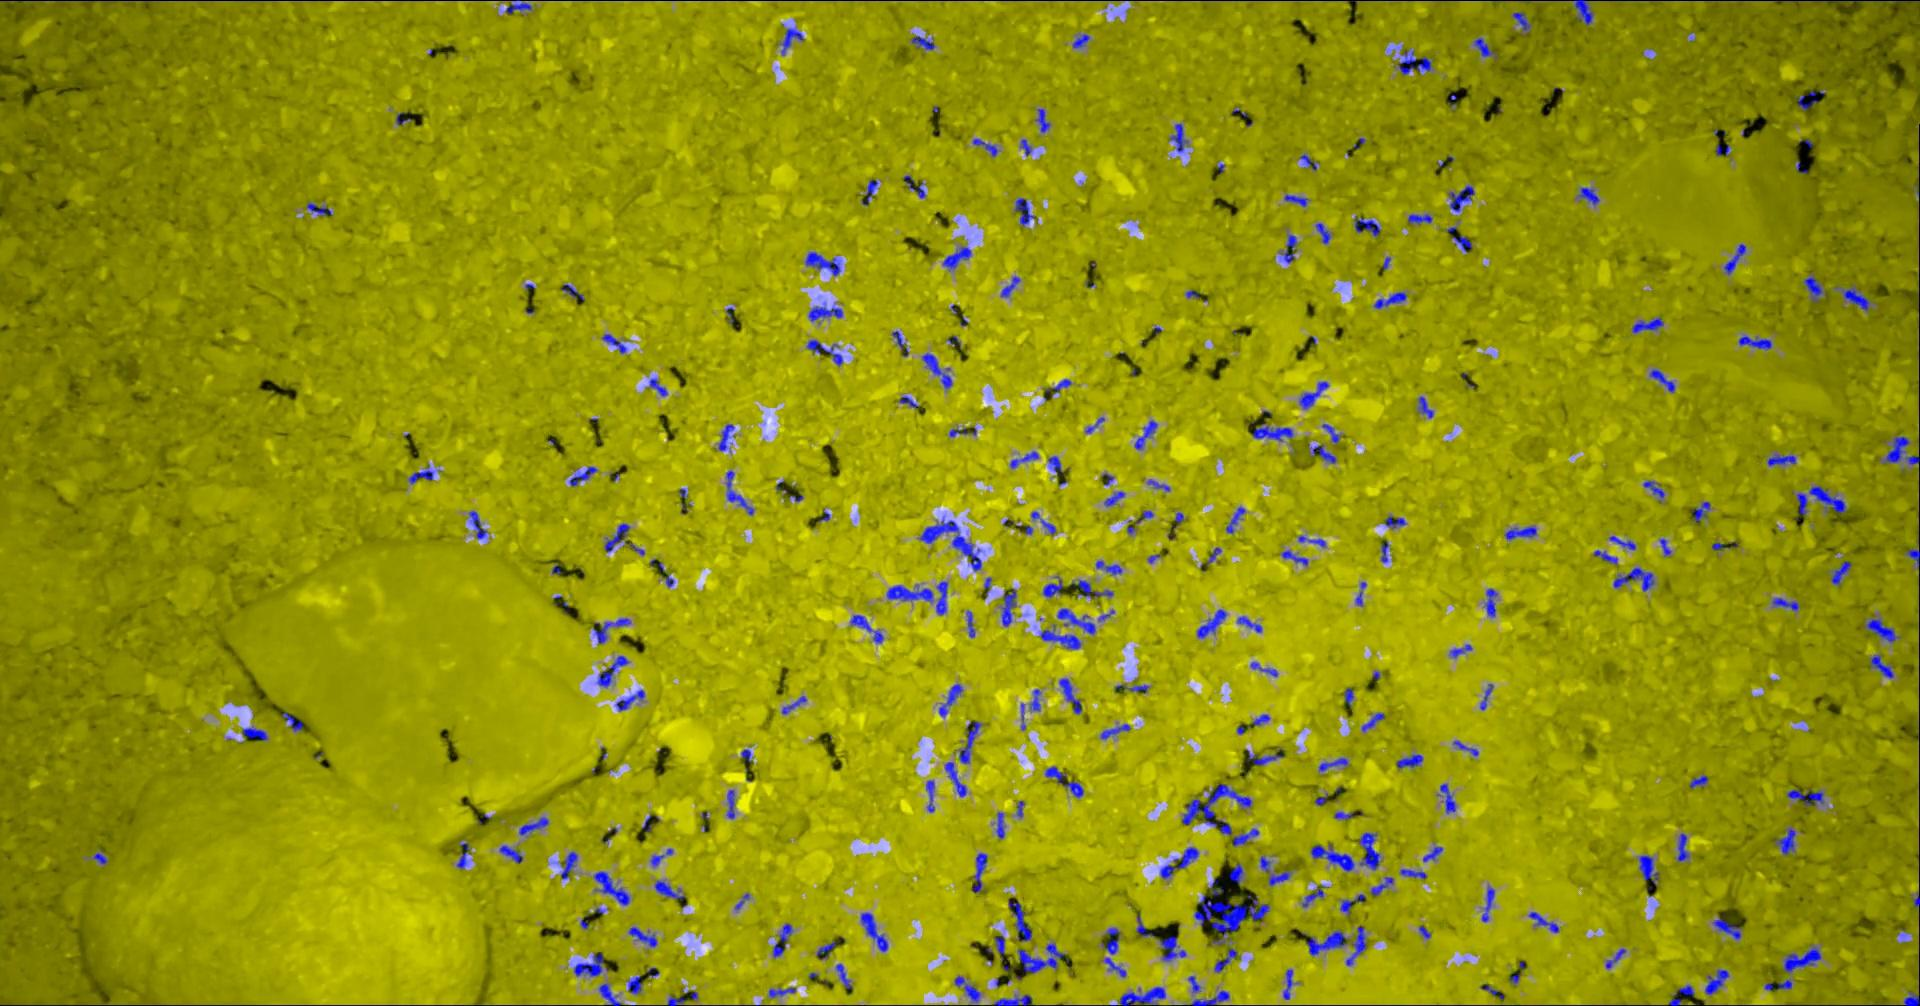ant: (1181, 782, 1251, 835), (919, 518, 982, 570), (1796, 485, 1845, 514), (1017, 942, 1064, 973), (725, 470, 753, 514), (1310, 843, 1354, 871), (1044, 766, 1083, 796), (593, 871, 629, 904), (1161, 846, 1197, 878), (860, 912, 888, 951), (1305, 930, 1349, 955), (1109, 986, 1164, 1005), (922, 352, 951, 387), (1613, 567, 1655, 591), (957, 721, 982, 763), (596, 655, 629, 686), (1884, 434, 1919, 464), (1040, 624, 1079, 649), (1783, 945, 1820, 972), (592, 617, 630, 643), (1008, 901, 1031, 941), (850, 614, 883, 641), (1057, 608, 1095, 633), (806, 339, 842, 365), (1396, 50, 1431, 74), (805, 251, 841, 276), (1196, 608, 1225, 638), (1345, 926, 1366, 965), (573, 951, 607, 976), (1298, 381, 1328, 408), (943, 761, 966, 796), (938, 683, 963, 716), (1357, 832, 1379, 869), (1058, 678, 1081, 713), (1865, 619, 1898, 641), (604, 523, 629, 553), (1252, 423, 1291, 441), (886, 586, 932, 601), (1070, 579, 1112, 596), (1723, 243, 1745, 274), (1448, 185, 1474, 211), (1785, 789, 1823, 807), (954, 976, 980, 1001), (772, 923, 792, 956), (1528, 911, 1558, 932), (1159, 935, 1185, 960), (1843, 286, 1869, 310), (942, 246, 970, 269), (1134, 420, 1157, 448), (615, 688, 644, 710), (1236, 714, 1269, 733), (1638, 855, 1658, 885), (1189, 989, 1229, 1005), (1704, 969, 1728, 995), (1246, 748, 1283, 765), (1796, 89, 1823, 111), (1712, 918, 1741, 939), (1030, 511, 1055, 533), (518, 815, 549, 835), (654, 880, 684, 899), (781, 28, 803, 55), (1803, 276, 1825, 302), (1302, 884, 1328, 906), (1015, 197, 1035, 225), (629, 926, 657, 946), (1650, 370, 1674, 392), (1870, 654, 1893, 678), (971, 852, 985, 892), (1354, 215, 1379, 236), (1830, 560, 1851, 586), (1774, 828, 1796, 854), (1338, 893, 1364, 915), (1373, 291, 1406, 307), (569, 466, 596, 486), (1225, 506, 1244, 533), (1214, 948, 1236, 972), (598, 983, 622, 1005), (1170, 123, 1187, 152), (601, 333, 626, 353), (1906, 526, 1919, 567), (1001, 589, 1015, 626), (1100, 723, 1130, 739), (1439, 782, 1455, 813), (469, 511, 486, 539), (1669, 984, 1693, 1005), (781, 695, 806, 714), (808, 306, 842, 320), (1481, 887, 1495, 921), (1101, 927, 1119, 954), (903, 175, 924, 197), (1630, 318, 1663, 332), (1738, 335, 1771, 349), (1010, 451, 1037, 467), (1573, 0, 1592, 24), (1310, 445, 1335, 464), (971, 138, 997, 156), (408, 465, 433, 483), (1044, 379, 1070, 395), (1232, 828, 1258, 845), (560, 851, 577, 878), (1103, 956, 1125, 977), (1370, 876, 1393, 895), (1237, 615, 1261, 633), (1281, 234, 1297, 262), (1250, 661, 1277, 676), (861, 179, 877, 205), (891, 330, 908, 356), (717, 424, 734, 450), (1503, 526, 1537, 539), (935, 580, 947, 614), (1643, 480, 1663, 500), (1605, 948, 1625, 968), (992, 995, 1032, 1005), (1473, 37, 1495, 56), (999, 276, 1018, 297), (1043, 575, 1062, 597), (281, 711, 302, 730), (1318, 757, 1347, 771), (1361, 713, 1384, 730), (499, 845, 522, 862), (1137, 913, 1154, 936), (836, 963, 851, 989), (1608, 535, 1636, 549), (1691, 500, 1710, 521), (1281, 550, 1307, 565), (1577, 187, 1599, 205), (1095, 560, 1121, 574), (1451, 741, 1478, 754), (1283, 969, 1295, 998), (817, 940, 836, 959), (1484, 588, 1497, 616), (1479, 683, 1493, 709), (241, 727, 267, 741), (561, 285, 584, 300), (1512, 11, 1530, 30), (1299, 152, 1318, 170), (1321, 423, 1338, 442), (1771, 597, 1798, 610), (1396, 754, 1422, 767), (910, 36, 935, 50), (1035, 108, 1049, 132), (1592, 550, 1617, 564), (505, 0, 531, 13), (306, 202, 331, 215), (924, 780, 935, 812), (456, 842, 469, 868), (1768, 453, 1796, 465), (1297, 535, 1324, 546), (1676, 833, 1688, 861), (649, 379, 667, 396), (1451, 235, 1470, 251), (1417, 396, 1432, 417), (1422, 846, 1443, 861), (1228, 862, 1243, 883), (994, 936, 1007, 960), (1114, 683, 1148, 692), (1269, 871, 1290, 885), (949, 426, 977, 436), (1103, 492, 1124, 506), (1283, 194, 1307, 206), (1449, 644, 1470, 657), (1399, 868, 1426, 878), (627, 976, 643, 993), (768, 987, 795, 997), (1316, 224, 1330, 243), (1048, 455, 1062, 474), (1407, 213, 1432, 224), (1384, 516, 1404, 528), (1072, 33, 1090, 47), (1029, 688, 1040, 710), (1355, 580, 1365, 605), (1689, 775, 1708, 788), (1710, 541, 1737, 550), (996, 812, 1004, 838), (726, 789, 734, 818), (1211, 876, 1223, 895), (1903, 991, 1919, 1005), (1187, 976, 1200, 992), (1380, 541, 1390, 561), (966, 610, 974, 636), (667, 995, 686, 1005), (1020, 138, 1031, 155), (1258, 856, 1270, 873), (1343, 687, 1352, 708), (1333, 810, 1352, 819), (1716, 144, 1730, 155), (1774, 0, 1887, 1), (1777, 979, 1790, 989)
